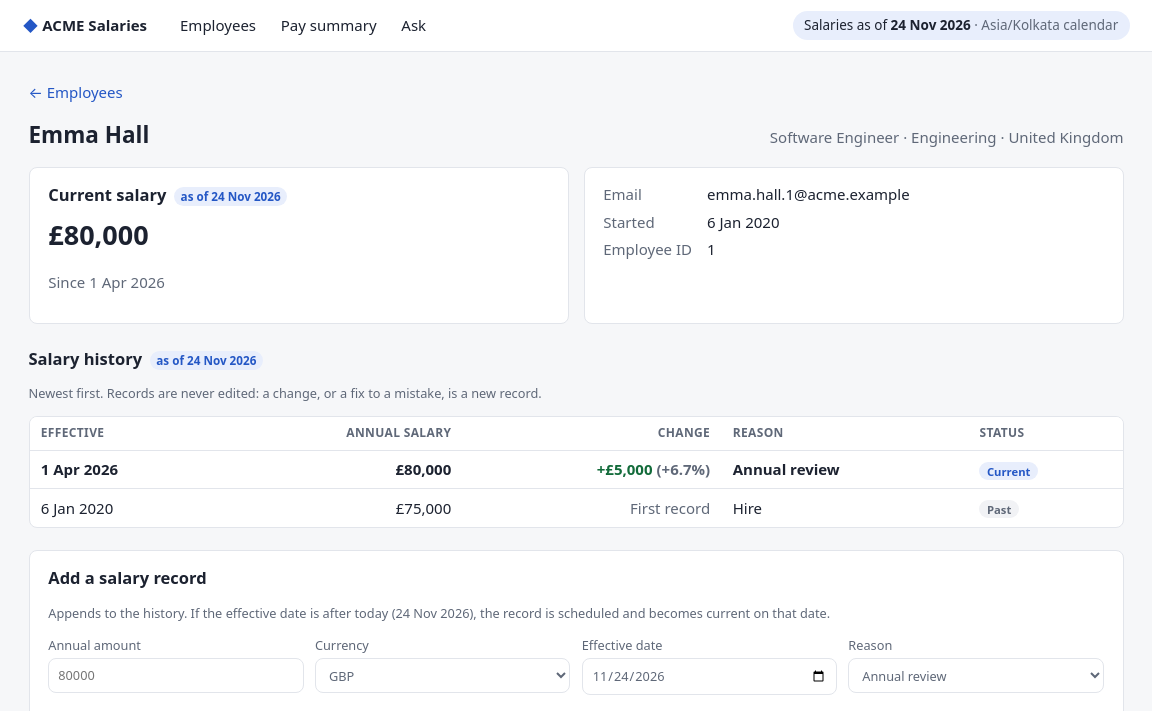
Test case: add salary record form › refuses a date before the employee started
Expected: the heading "Emma Hall" is shown, [28, 118, 149, 152]
Type "90000" into the field labelled "Annual amount". click: [176, 675]
box: [48, 658, 304, 692]
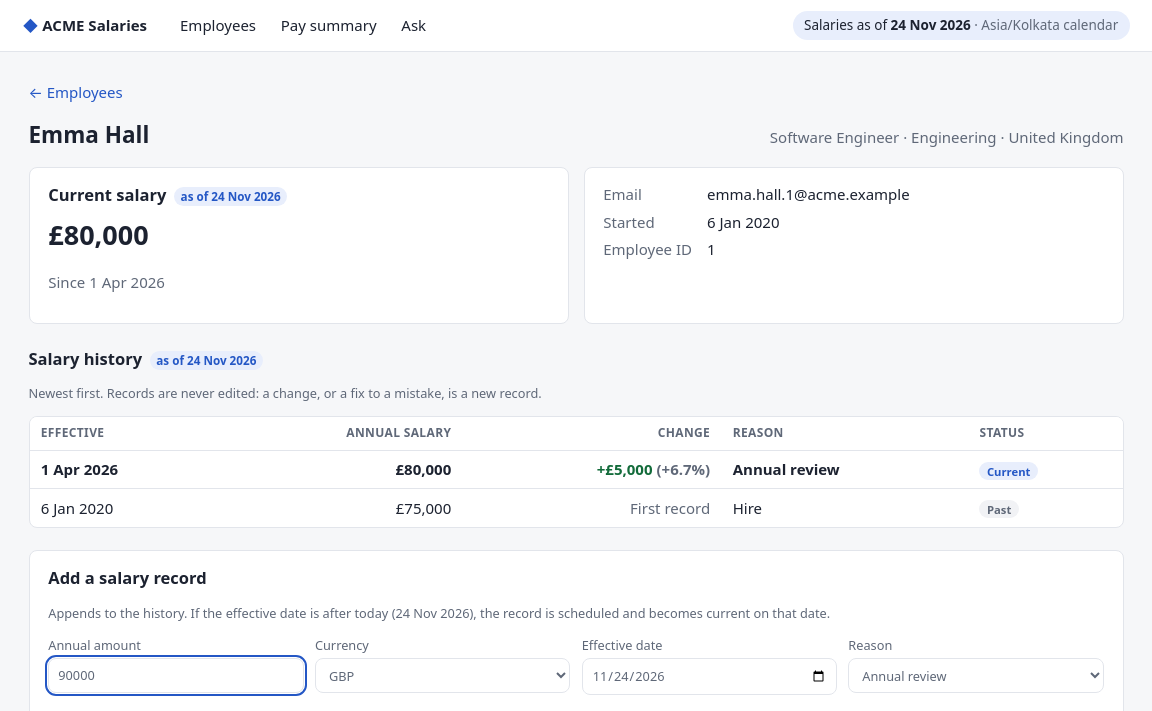
Type "2019-12-31" into the date field labelled "Effective date". click: [709, 676]
box: [582, 658, 837, 694]
(page scrolled)
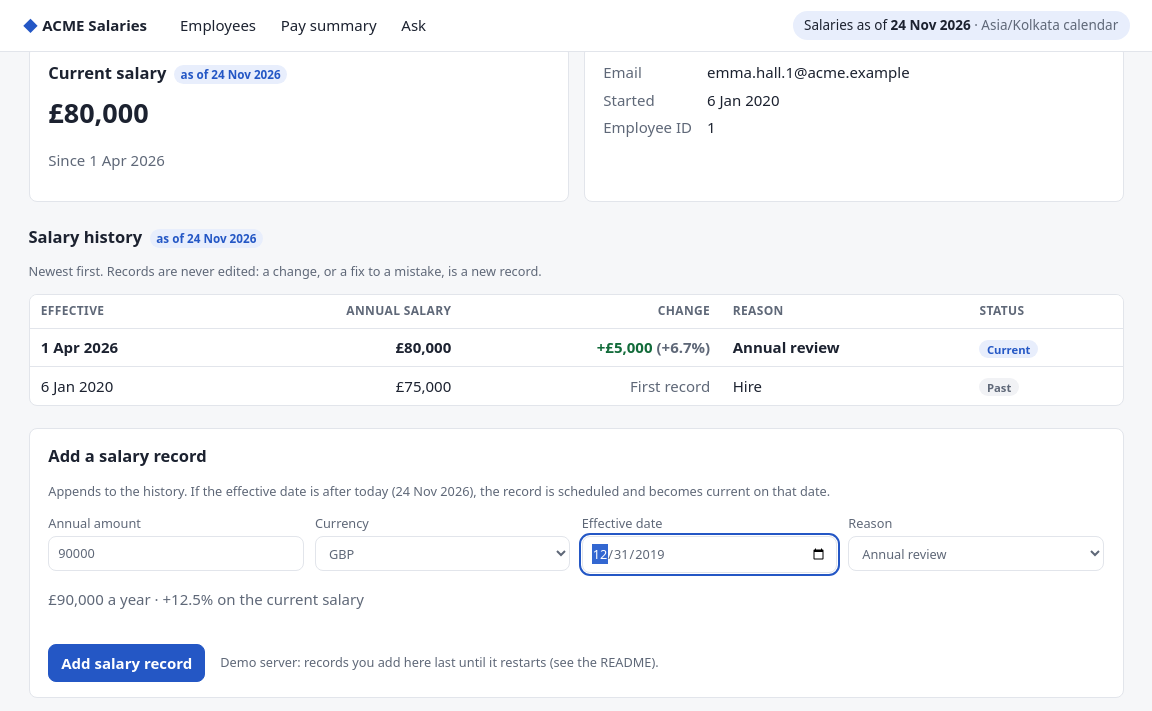
Click the button "Add salary record". click: [127, 663]
box: [48, 644, 205, 682]
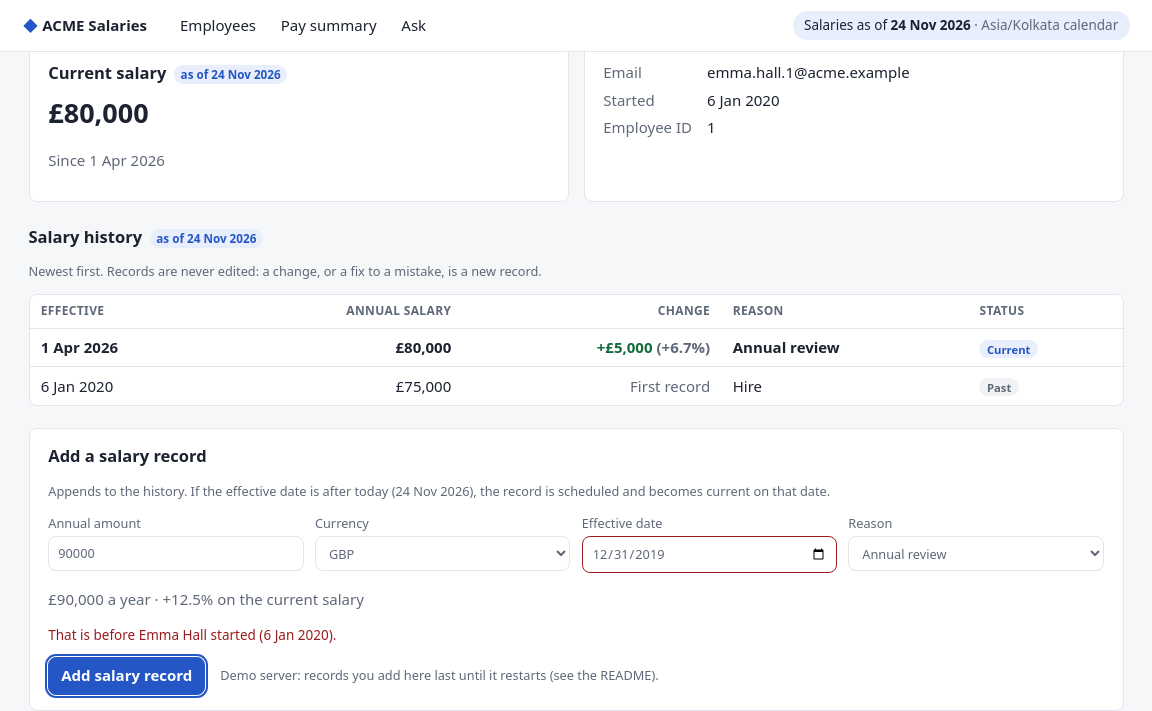
Now the text "That is before Emma Hall started (6 Jan 2020)." is shown, box [48, 626, 336, 644]
